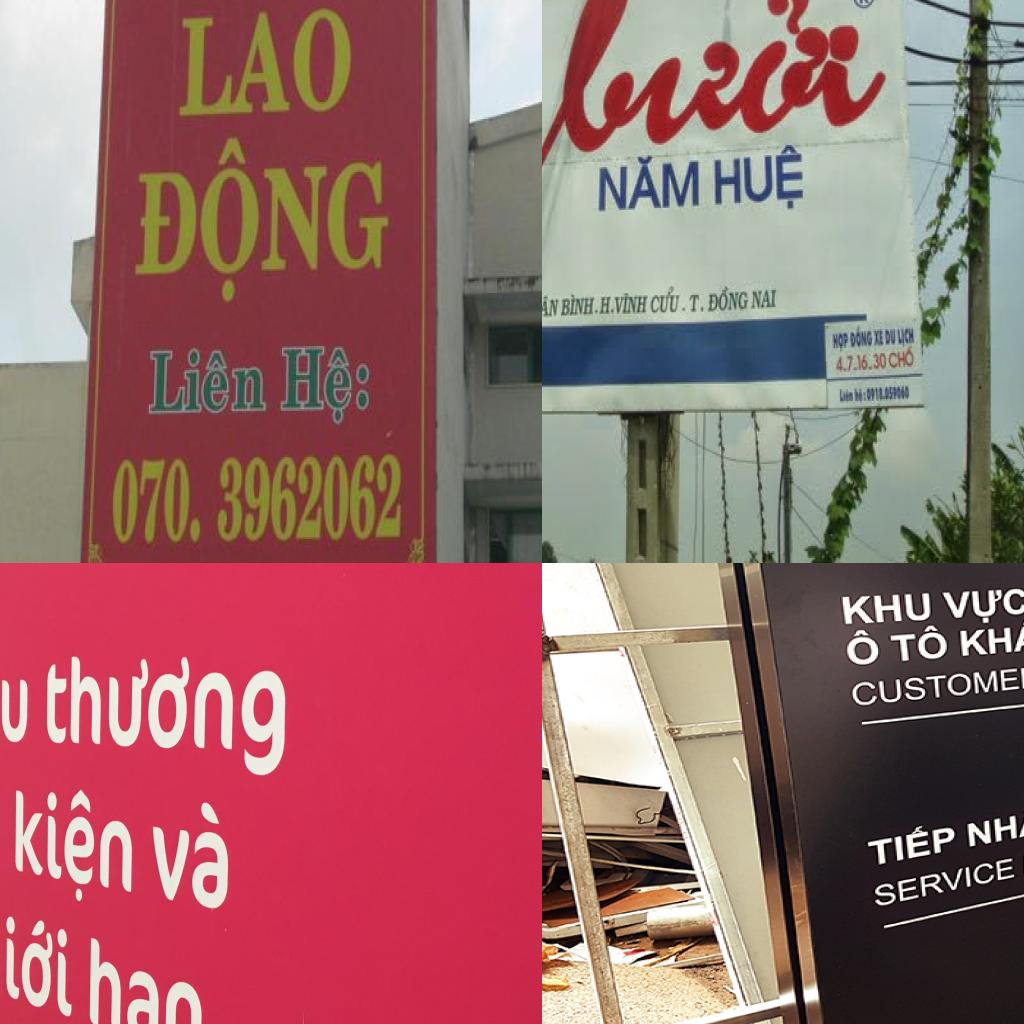text: (542, 0, 905, 160), (122, 129, 390, 312), (41, 651, 289, 780), (171, 3, 359, 122), (9, 780, 139, 912), (83, 930, 213, 1024), (144, 339, 268, 418), (106, 455, 206, 549), (147, 798, 230, 910), (0, 900, 74, 1024), (272, 337, 369, 428), (872, 855, 1019, 913), (850, 664, 1024, 710), (594, 147, 706, 218), (714, 134, 806, 214), (862, 821, 960, 872), (837, 588, 938, 629), (961, 798, 1024, 858), (939, 585, 1024, 626), (0, 651, 30, 762), (957, 615, 1024, 660), (885, 624, 953, 664), (844, 629, 884, 670), (649, 283, 689, 317), (836, 352, 890, 376), (708, 283, 750, 312), (560, 293, 599, 319), (614, 292, 650, 317), (887, 346, 917, 372), (750, 287, 778, 312), (849, 324, 875, 350), (542, 293, 560, 320), (688, 292, 708, 316), (896, 326, 917, 348), (600, 294, 618, 318), (831, 331, 850, 353), (839, 386, 855, 404), (884, 326, 898, 346), (872, 329, 886, 348), (854, 386, 868, 404), (854, 0, 873, 8)
